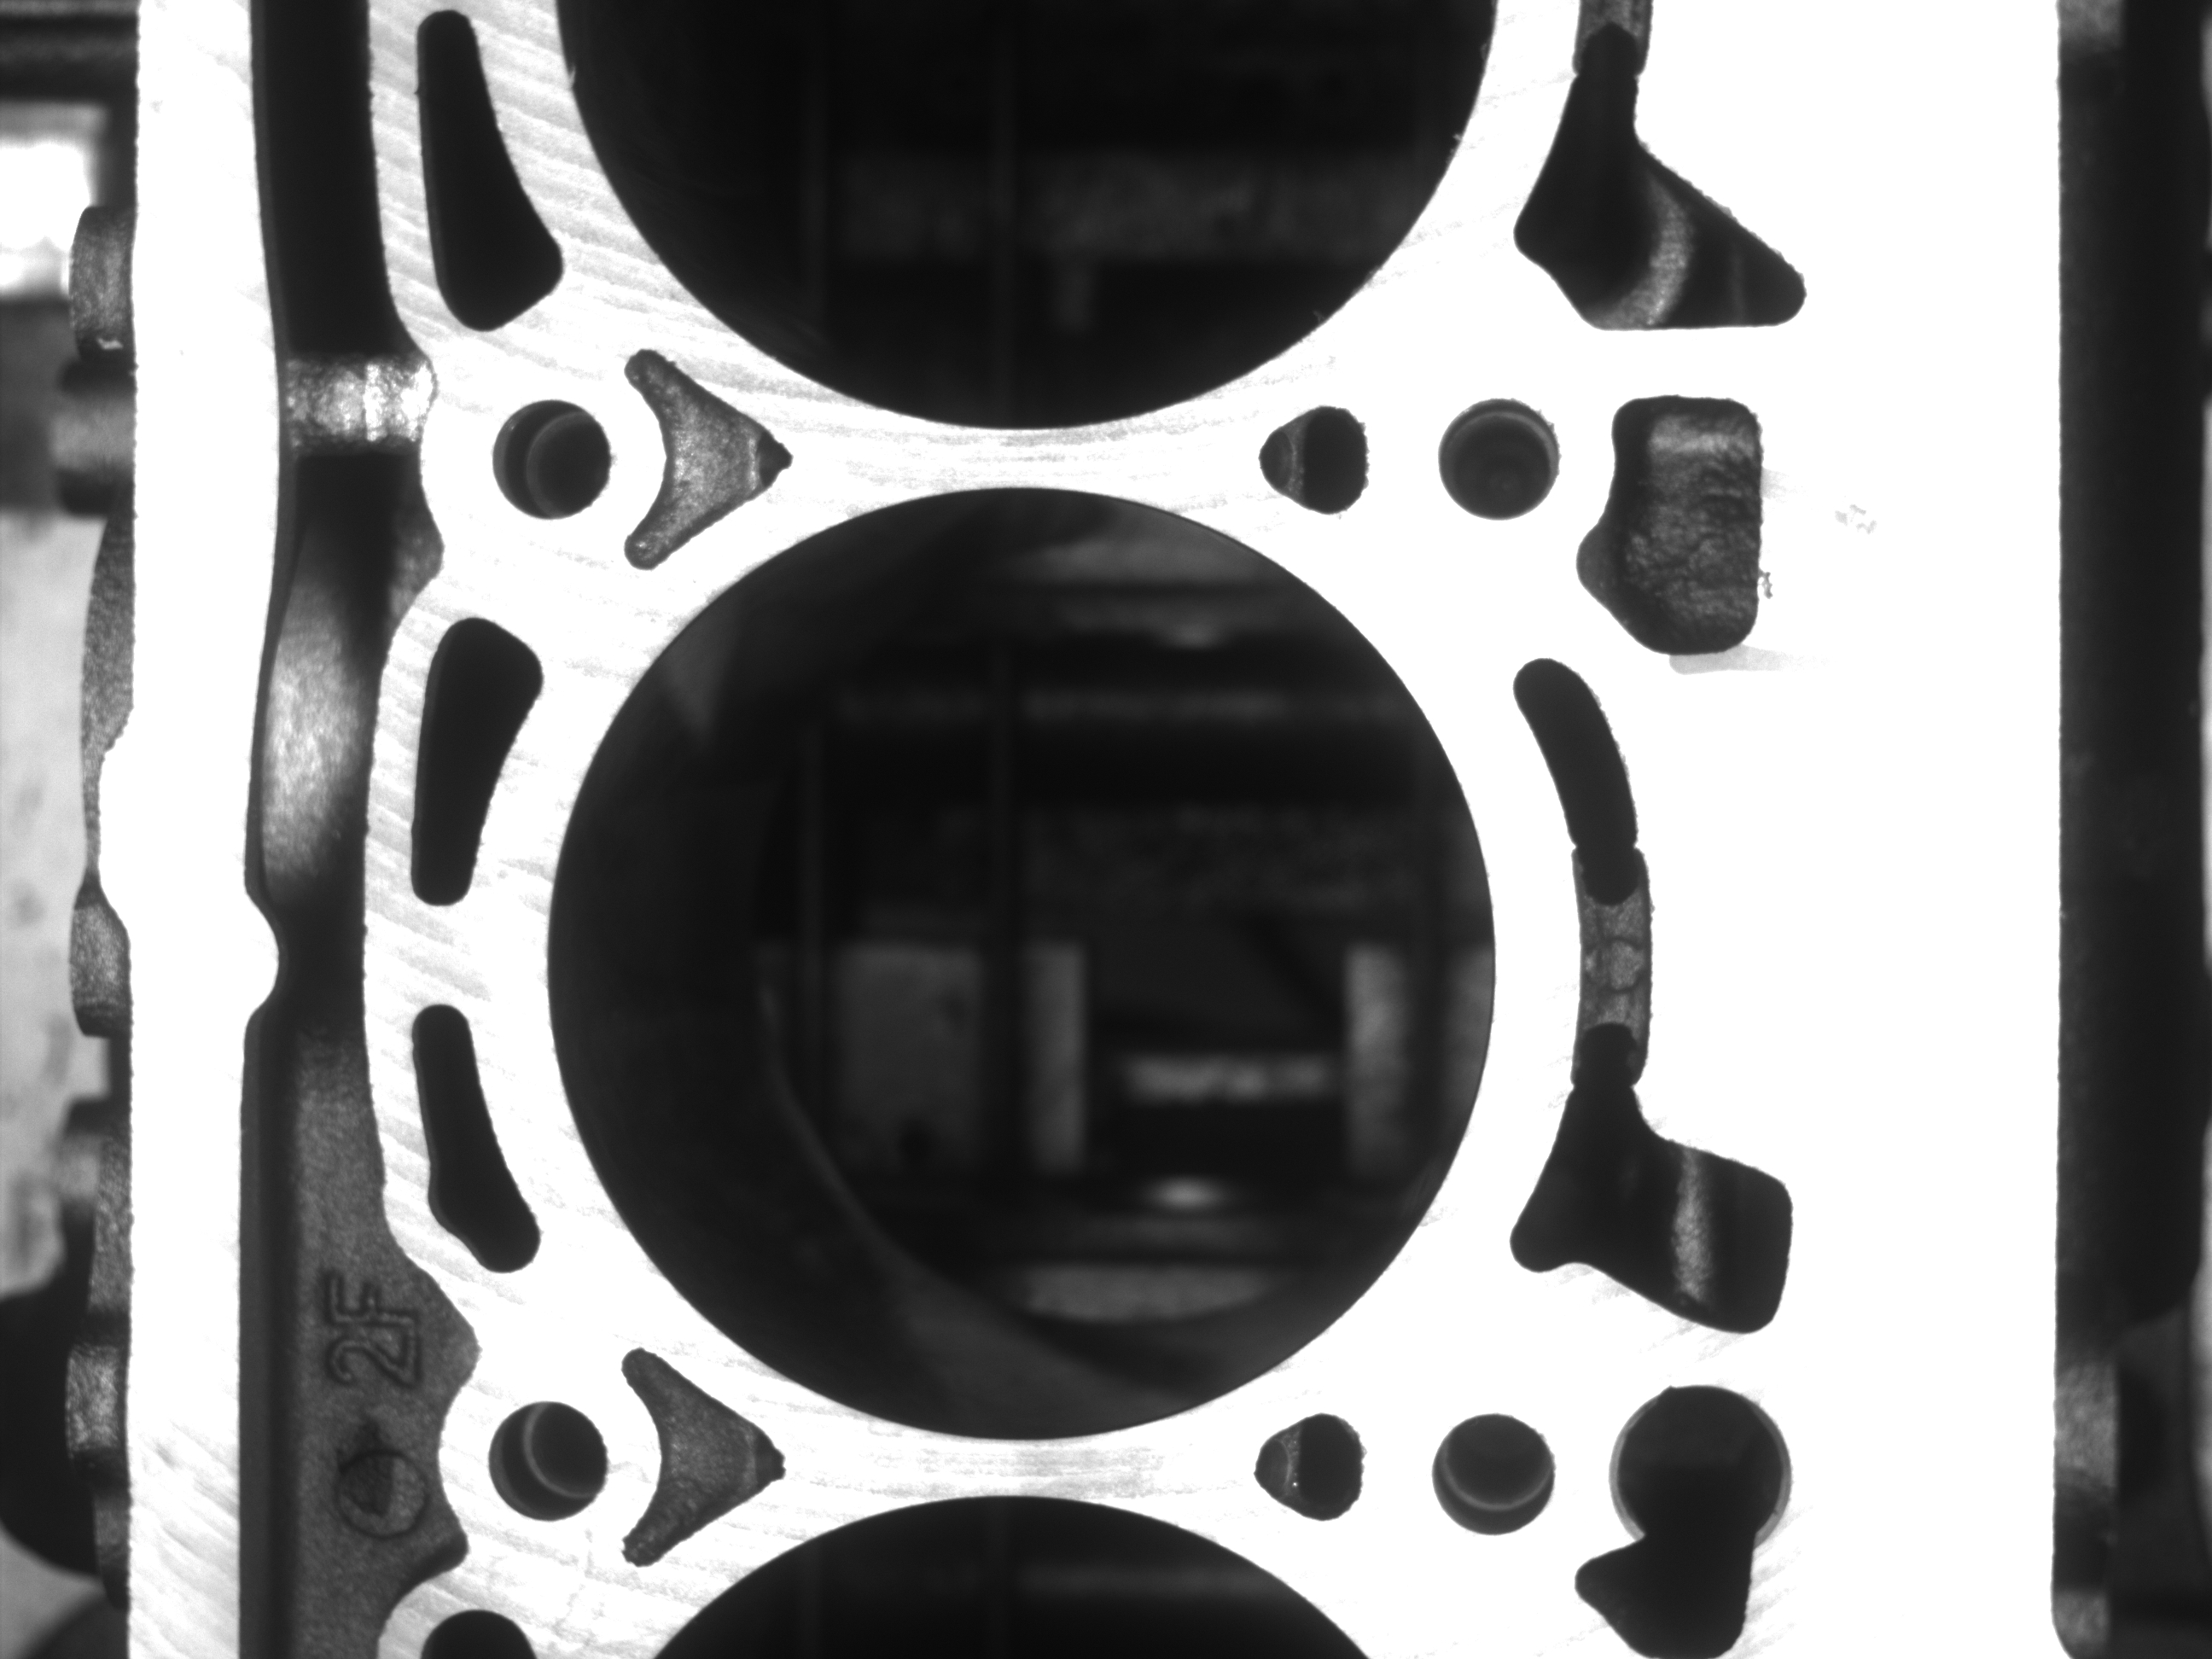shrinkage: (1759, 537, 1804, 624)
